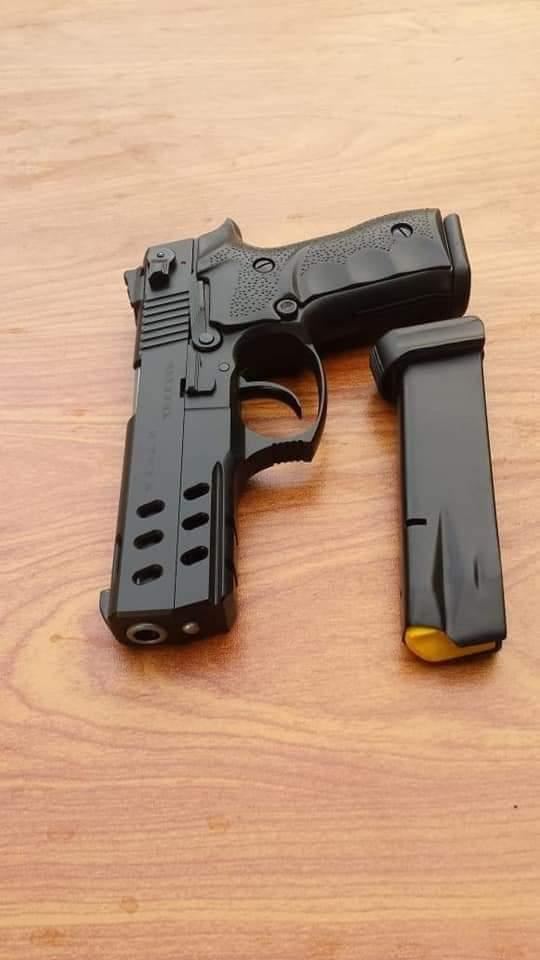weapon: (97, 204, 470, 650)
